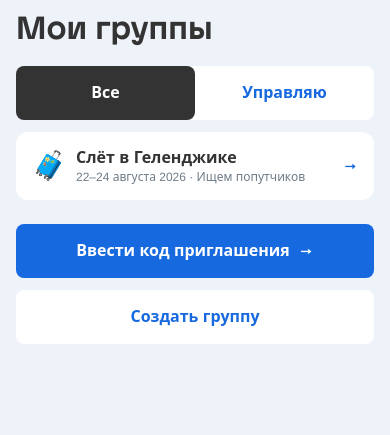
it: Home › переключение вкладок
Click the tab "Управляю" at (284, 93), box [195,66,374,120]
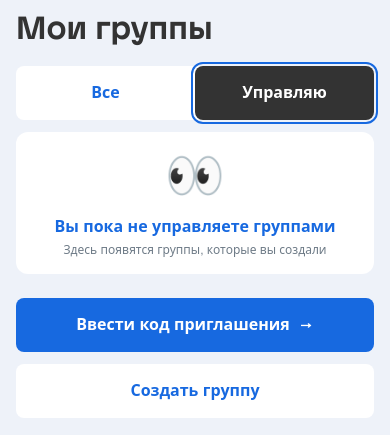
Expected: the heading "Вы пока не управляете группами" is shown, [54,216,336,238]
Click the tab "Все" at (106, 93), box [16,66,195,120]
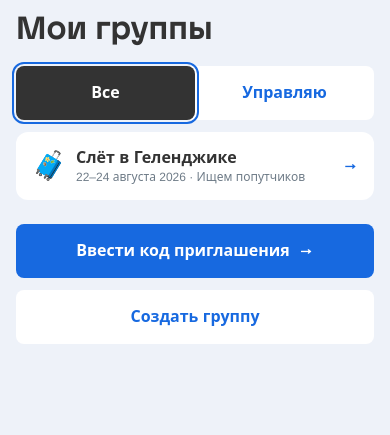
Expected: the button "🧳 Слёт в Геленджике 22–24 августа 2026 · Ищем попутчиков →" is shown, [16,132,374,200]
